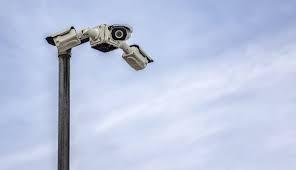tutu: (44, 22, 85, 51), (121, 44, 156, 71), (106, 19, 136, 44)
